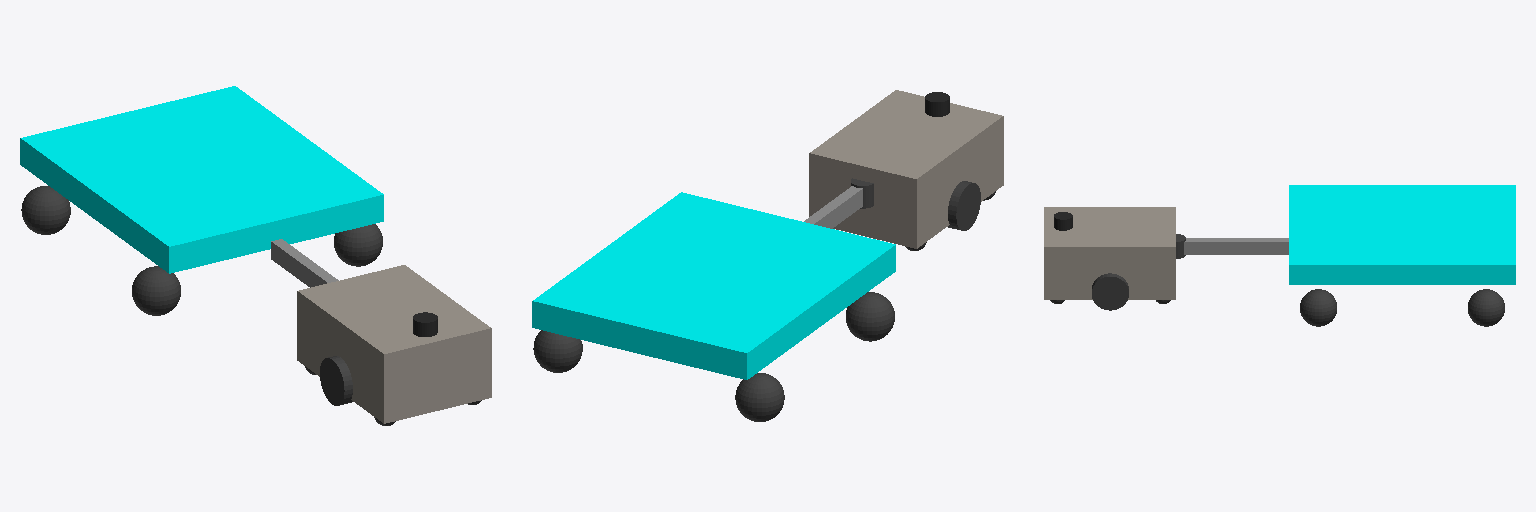
robot.urdf — glr_description:
<?xml version="1.0" ?>
<!-- =================================================================================== -->
<!-- |    This document was autogenerated by xacro from glr.xacro                      | -->
<!-- |    EDITING THIS FILE BY HAND IS NOT RECOMMENDED                                 | -->
<!-- =================================================================================== -->
<robot name="glr_description">
  <!--Robot description  -->
  <link name="base_link">
    <inertial>
      <origin rpy="0 0 0" xyz="0 0 0"/>
      <mass value="0.1"/>
      <inertia ixx="0.0001" ixy="0" ixz="0" iyy="0.0001" iyz="0" izz="0.0001"/>
    </inertial>
  </link>
  <!-- Robot Footprint -->
  <link name="base_footprint"/>
  <joint name="base_joint" type="fixed">
    <parent link="base_link"/>
    <child link="base_footprint"/>
    <origin rpy="0 0 0" xyz="0 0 0"/>
  </joint>
  <!-- Tugger -->
  <link name="chassibigga">
    <origin rpy="0 0 0" xyz="0 0 0"/>
    <inertial>
      <origin rpy="0 0 0" xyz="0 0 0.1"/>
      <mass value="40"/>
      <inertia ixx="1.9536666666666667" ixy="0.0" ixz="0.0" iyy="2.466666666666667" iyz="0.0" izz="1.1536666666666668"/>
    </inertial>
    <visual>
      <origin rpy="0 0 0" xyz="0 0 0.1"/>
      <geometry>
        <box size="0.50 0.70 0.31"/>
      </geometry>
      <material name="">
        <color rgba="0.64706 0.61961 0.58824 1"/>
      </material>
    </visual>
    <collision>
      <origin rpy="0 0 0" xyz="0 0 0.1"/>
      <geometry>
        <box size="0.50 0.70 0.31"/>
      </geometry>
    </collision>
  </link>
  <joint name="base_chassi_joint" type="fixed">
    <parent link="base_link"/>
    <child link="chassibigga"/>
    <origin rpy="0 0 0" xyz="0 0 0.1"/>
  </joint>
  <!-- Left Traction Wheel -->
  <link name="left_wheel">
    <inertial>
      <origin rpy="0 0 0" xyz="0 0 0"/>
      <mass value="12"/>
      <inertia ixx="0.06000000000000001" ixy="0" ixz="0" iyy="0.03640000000000001" iyz="0" izz="0.03640000000000001"/>
    </inertial>
    <visual>
      <origin rpy="0 1.5708 0" xyz="0 0 0"/>
      <geometry>
        <cylinder length="0.08" radius="0.1"/>
      </geometry>
      <material name="wheel_material">
        <color rgba="0.29804 0.29804 0.29804 1"/>
      </material>
    </visual>
    <collision>
      <origin rpy="0 1.5708 0" xyz="0 0 0"/>
      <geometry>
        <cylinder length="0.08" radius="0.1"/>
      </geometry>
    </collision>
  </link>
  <joint name="left_wheel_joint" type="continuous">
    <origin rpy="0 0 0" xyz="0.25 0 0"/>
    <parent link="chassibigga"/>
    <child link="left_wheel"/>
    <axis xyz="1 0 0"/>
    <dynamics damping="0.5" friction="1.0"/>
  </joint>
  <!-- Right Traction Wheel -->
  <link name="right_wheel">
    <inertial>
      <origin rpy="0 0 0" xyz="0 0 0"/>
      <mass value="12"/>
      <inertia ixx="0.06000000000000001" ixy="0" ixz="0" iyy="0.03640000000000001" iyz="0" izz="0.03640000000000001"/>
    </inertial>
    <visual>
      <origin rpy="0 1.5708 0" xyz="0 0 0"/>
      <geometry>
        <cylinder length="0.08" radius="0.1"/>
      </geometry>
      <material name="wheel_material">
        <color rgba="0.29804 0.29804 0.29804 1"/>
      </material>
    </visual>
    <collision>
      <origin rpy="0 1.5708 0" xyz="0 0 0"/>
      <geometry>
        <cylinder length="0.08" radius="0.1"/>
      </geometry>
    </collision>
  </link>
  <joint name="right_wheel_joint" type="continuous">
    <origin rpy="0 0 0" xyz="-0.25 0 0"/>
    <parent link="chassibigga"/>
    <child link="right_wheel"/>
    <axis xyz="1 0 0"/>
    <dynamics damping="0.5" friction="1.0"/>
  </joint>
  <link name="front_left_caster_wheel">
    <inertial>
      <origin rpy="0 0 0" xyz="0 0 0"/>
      <mass value="0.5"/>
      <inertia ixx="0.0005000000000000001" ixy="0.0" ixz="0.0" iyy="0.0005000000000000001" iyz="0.0" izz="0.0005000000000000001"/>
    </inertial>
    <visual>
      <origin rpy="0 0 0" xyz="0 0 0"/>
      <geometry>
        <sphere radius="0.05"/>
      </geometry>
      <material name="caster_material">
        <color rgba="0.29804 0.29804 0.29804 1"/>
      </material>
    </visual>
    <collision>
      <origin rpy="0 0 0" xyz="0 0 0"/>
      <geometry>
        <sphere radius="0.05"/>
      </geometry>
    </collision>
  </link>
  <joint name="front_left_caster_wheel_joint" type="continuous">
    <origin rpy="0 0 0" xyz="0.2 0.28 -0.05"/>
    <parent link="chassibigga"/>
    <child link="front_left_caster_wheel"/>
    <axis xyz="0 1 0"/>
    <dynamics damping="0.5" friction="0.5"/>
  </joint>
  <link name="front_right_caster_wheel">
    <inertial>
      <origin rpy="0 0 0" xyz="0 0 0"/>
      <mass value="0.5"/>
      <inertia ixx="0.0005000000000000001" ixy="0.0" ixz="0.0" iyy="0.0005000000000000001" iyz="0.0" izz="0.0005000000000000001"/>
    </inertial>
    <visual>
      <origin rpy="0 0 0" xyz="0 0 0"/>
      <geometry>
        <sphere radius="0.05"/>
      </geometry>
      <material name="caster_material">
        <color rgba="0.29804 0.29804 0.29804 1"/>
      </material>
    </visual>
    <collision>
      <origin rpy="0 0 0" xyz="0 0 0"/>
      <geometry>
        <sphere radius="0.05"/>
      </geometry>
    </collision>
  </link>
  <joint name="front_right_caster_wheel_joint" type="continuous">
    <origin rpy="0 0 0" xyz="0.2 -0.28 -0.05"/>
    <parent link="chassibigga"/>
    <child link="front_right_caster_wheel"/>
    <axis xyz="0 1 0"/>
    <dynamics damping="0.5" friction="0.5"/>
  </joint>
  <link name="rear_left_caster_wheel">
    <inertial>
      <origin rpy="0 0 0" xyz="0 0 0"/>
      <mass value="0.5"/>
      <inertia ixx="0.0005000000000000001" ixy="0.0" ixz="0.0" iyy="0.0005000000000000001" iyz="0.0" izz="0.0005000000000000001"/>
    </inertial>
    <visual>
      <origin rpy="0 0 0" xyz="0 0 0"/>
      <geometry>
        <sphere radius="0.05"/>
      </geometry>
      <material name="caster_material">
        <color rgba="0.29804 0.29804 0.29804 1"/>
      </material>
    </visual>
    <collision>
      <origin rpy="0 0 0" xyz="0 0 0"/>
      <geometry>
        <sphere radius="0.05"/>
      </geometry>
    </collision>
  </link>
  <joint name="rear_left_caster_wheel_joint" type="continuous">
    <origin rpy="0 0 0" xyz="-0.2 0.28 -0.05"/>
    <parent link="chassibigga"/>
    <child link="rear_left_caster_wheel"/>
    <axis xyz="0 1 0"/>
    <dynamics damping="0.5" friction="0.5"/>
  </joint>
  <link name="rear_right_caster_wheel">
    <inertial>
      <origin rpy="0 0 0" xyz="0 0 0"/>
      <mass value="0.5"/>
      <inertia ixx="0.0005000000000000001" ixy="0.0" ixz="0.0" iyy="0.0005000000000000001" iyz="0.0" izz="0.0005000000000000001"/>
    </inertial>
    <visual>
      <origin rpy="0 0 0" xyz="0 0 0"/>
      <geometry>
        <sphere radius="0.05"/>
      </geometry>
      <material name="caster_material">
        <color rgba="0.29804 0.29804 0.29804 1"/>
      </material>
    </visual>
    <collision>
      <origin rpy="0 0 0" xyz="0 0 0"/>
      <geometry>
        <sphere radius="0.05"/>
      </geometry>
    </collision>
  </link>
  <joint name="rear_right_caster_wheel_joint" type="continuous">
    <origin rpy="0 0 0" xyz="-0.2 -0.28 -0.05"/>
    <parent link="chassibigga"/>
    <child link="rear_right_caster_wheel"/>
    <axis xyz="0 1 0"/>
    <dynamics damping="0.5" friction="0.5"/>
  </joint>
  <!-- Hitch point at the back of tugger -->
  <link name="hitch_link">
    <inertial>
      <origin rpy="0 0 0" xyz="0 0 0"/>
      <mass value="1.0"/>
      <inertia ixx="0.01" ixy="0" ixz="0" iyy="0.01" iyz="0" izz="0.01"/>
    </inertial>
    <visual>
      <origin rpy="0 0 0" xyz="0 0 0"/>
      <geometry>
        <cylinder length="0.1" radius="0.05"/>
      </geometry>
      <material name="hitch_material">
        <color rgba="0.3 0.3 0.3 1"/>
      </material>
    </visual>
    <collision>
      <origin rpy="0 0 0" xyz="0 0 0"/>
      <geometry>
        <cylinder length="0.1" radius="0.05"/>
      </geometry>
    </collision>
  </link>
  <joint name="hitch_joint" type="fixed">
    <origin rpy="0 0 0" xyz="0 0.35 0.14"/>
    <parent link="chassibigga"/>
    <child link="hitch_link"/>
  </joint>
  <!-- Generic LiDAR -->
  <link name="lidar_link">
    <inertial>
      <origin rpy="0 0 0" xyz="0 0 0"/>
      <mass value="0.5"/>
      <inertia ixx="0.001" ixy="0" ixz="0" iyy="0.001" iyz="0" izz="0.001"/>
    </inertial>
    <visual>
      <origin rpy="0 0 0" xyz="0 0 0"/>
      <geometry>
        <cylinder length="0.07" radius="0.05"/>
      </geometry>
      <material name="lidar_material">
        <color rgba="0.2 0.2 0.2 1"/>
      </material>
    </visual>
    <collision>
      <origin rpy="0 0 0" xyz="0 0 0"/>
      <geometry>
        <cylinder length="0.07" radius="0.05"/>
      </geometry>
    </collision>
  </link>
  <joint name="lidar_joint" type="fixed">
    <parent link="chassibigga"/>
    <child link="lidar_link"/>
    <origin rpy="0 0 0" xyz="0 -0.25 0.28500000000000003"/>
  </joint>
  <link name="trailer_link">
    <inertial>
      <origin rpy="0 0 0" xyz="0 0 0"/>
      <mass value="0.5"/>
      <inertia ixx="0.01" ixy="0.0" ixz="0.0" iyy="0.01" iyz="0.0" izz="0.01"/>
    </inertial>
  </link>
  <link name="cambao">
    <inertial>
      <origin rpy="0 0 0" xyz="0 0.3 0"/>
      <mass value="1.0"/>
      <inertia ixx="0.03" ixy="0.0" ixz="0.0" iyy="0.001" iyz="0.0" izz="0.03"/>
    </inertial>
    <visual>
      <origin rpy="0 0 0" xyz="0 0.3 0"/>
      <geometry>
        <box size="0.05 0.6 0.08"/>
      </geometry>
      <material name="Grey">
        <color rgba="0.6 0.6 0.6 1"/>
      </material>
    </visual>
    <collision>
      <origin rpy="0 0 0" xyz="0 0.3 0"/>
      <geometry>
        <box size="0.05 0.6 0.08"/>
      </geometry>
    </collision>
  </link>
  <joint name="trailer_cambao_joint" type="revolute">
    <origin rpy="0 0 0" xyz="0 0 0"/>
    <parent link="trailer_link"/>
    <child link="cambao"/>
    <axis xyz="0 0 1"/>
    <limit effort="100" lower="-1.57" upper="1.57" velocity="1"/>
    <dynamics damping="10000.0" friction="0.0"/>
  </joint>
  <link name="chassi">
    <inertial>
      <origin rpy="0 0 0" xyz="0 0.6 0.35"/>
      <mass value="80.702"/>
      <inertia ixx="9.781082399999999" ixy="0.0" ixz="0.0" iyy="16.409406666666666" iyz="0.0" izz="6.822009066666666"/>
    </inertial>
    <visual>
      <origin rpy="0 0 0" xyz="0 0.6 0.35"/>
      <geometry>
        <box size="1 1.2 0.12"/>
      </geometry>
      <material name="Cyan">
        <color rgba="0 1 1 1"/>
      </material>
    </visual>
    <collision>
      <origin rpy="0 0 0" xyz="0 0.6 0.35"/>
      <geometry>
        <box size="1 1.2 0.12"/>
      </geometry>
    </collision>
  </link>
  <joint name="cambao_chassi_joint" type="revolute">
    <origin rpy="0 0 0" xyz="0 0.6 -0.284"/>
    <parent link="cambao"/>
    <child link="chassi"/>
    <axis xyz="0 0 1"/>
    <limit effort="100" lower="-0.8" upper="0.8" velocity="1"/>
    <dynamics damping="10000.0" friction="0.0"/>
  </joint>
  <link name="diant1_wheel">
    <inertial>
      <origin rpy="0 0 0" xyz="0 0 0"/>
      <mass value="2.0"/>
      <inertia ixx="0.008000000000000002" ixy="0.0" ixz="0.0" iyy="0.008000000000000002" iyz="0.0" izz="0.008000000000000002"/>
    </inertial>
    <visual>
      <origin rpy="0 0 0" xyz="0 0 0"/>
      <geometry>
        <sphere radius="0.1"/>
      </geometry>
      <material name="caster_material">
        <color rgba="0.29804 0.29804 0.29804 1"/>
      </material>
    </visual>
    <collision>
      <origin rpy="0 0 0" xyz="0 0 0"/>
      <geometry>
        <sphere radius="0.1"/>
      </geometry>
    </collision>
  </link>
  <joint name="diant1_wheel_joint" type="continuous">
    <origin rpy="0 0 0" xyz="0.47 0.155 0.144"/>
    <parent link="chassi"/>
    <child link="diant1_wheel"/>
    <!-- Sphere rotation axis logic can remain 0 1 0 or 1 0 0, dynamics handle the rest -->
    <axis xyz="0 1 0"/>
    <dynamics damping="0.5" friction="0.5"/>
  </joint>
  <link name="diant2_wheel">
    <inertial>
      <origin rpy="0 0 0" xyz="0 0 0"/>
      <mass value="2.0"/>
      <inertia ixx="0.008000000000000002" ixy="0.0" ixz="0.0" iyy="0.008000000000000002" iyz="0.0" izz="0.008000000000000002"/>
    </inertial>
    <visual>
      <origin rpy="0 0 0" xyz="0 0 0"/>
      <geometry>
        <sphere radius="0.1"/>
      </geometry>
      <material name="caster_material">
        <color rgba="0.29804 0.29804 0.29804 1"/>
      </material>
    </visual>
    <collision>
      <origin rpy="0 0 0" xyz="0 0 0"/>
      <geometry>
        <sphere radius="0.1"/>
      </geometry>
    </collision>
  </link>
  <joint name="diant2_wheel_joint" type="continuous">
    <origin rpy="0 0 0" xyz="-0.47 0.155 0.144"/>
    <parent link="chassi"/>
    <child link="diant2_wheel"/>
    <!-- Sphere rotation axis logic can remain 0 1 0 or 1 0 0, dynamics handle the rest -->
    <axis xyz="0 1 0"/>
    <dynamics damping="0.5" friction="0.5"/>
  </joint>
  <link name="tras1_wheel">
    <inertial>
      <origin rpy="0 0 0" xyz="0 0 0"/>
      <mass value="2.0"/>
      <inertia ixx="0.008000000000000002" ixy="0.0" ixz="0.0" iyy="0.008000000000000002" iyz="0.0" izz="0.008000000000000002"/>
    </inertial>
    <visual>
      <origin rpy="0 0 0" xyz="0 0 0"/>
      <geometry>
        <sphere radius="0.1"/>
      </geometry>
      <material name="caster_material">
        <color rgba="0.29804 0.29804 0.29804 1"/>
      </material>
    </visual>
    <collision>
      <origin rpy="0 0 0" xyz="0 0 0"/>
      <geometry>
        <sphere radius="0.1"/>
      </geometry>
    </collision>
  </link>
  <joint name="tras1_wheel_joint" type="continuous">
    <origin rpy="0 0 0" xyz="0.47 1.045 0.144"/>
    <parent link="chassi"/>
    <child link="tras1_wheel"/>
    <!-- Sphere rotation axis logic can remain 0 1 0 or 1 0 0, dynamics handle the rest -->
    <axis xyz="0 1 0"/>
    <dynamics damping="0.5" friction="0.5"/>
  </joint>
  <link name="tras2_wheel">
    <inertial>
      <origin rpy="0 0 0" xyz="0 0 0"/>
      <mass value="2.0"/>
      <inertia ixx="0.008000000000000002" ixy="0.0" ixz="0.0" iyy="0.008000000000000002" iyz="0.0" izz="0.008000000000000002"/>
    </inertial>
    <visual>
      <origin rpy="0 0 0" xyz="0 0 0"/>
      <geometry>
        <sphere radius="0.1"/>
      </geometry>
      <material name="caster_material">
        <color rgba="0.29804 0.29804 0.29804 1"/>
      </material>
    </visual>
    <collision>
      <origin rpy="0 0 0" xyz="0 0 0"/>
      <geometry>
        <sphere radius="0.1"/>
      </geometry>
    </collision>
  </link>
  <joint name="tras2_wheel_joint" type="continuous">
    <origin rpy="0 0 0" xyz="-0.47 1.045 0.144"/>
    <parent link="chassi"/>
    <child link="tras2_wheel"/>
    <!-- Sphere rotation axis logic can remain 0 1 0 or 1 0 0, dynamics handle the rest -->
    <axis xyz="0 1 0"/>
    <dynamics damping="0.5" friction="0.5"/>
  </joint>
  <!-- Connection between tugger and trailer -->
  <joint name="tugger_trailer_joint" type="revolute">
    <origin rpy="0 0 0" xyz="0 0 0"/>
    <parent link="hitch_link"/>
    <child link="trailer_link"/>
    <axis xyz="0 0 1"/>
    <limit effort="100" lower="-0.6" upper="0.6" velocity="1"/>
    <dynamics damping="0" friction="0"/>
  </joint>
</robot>

--- What the picture shows (computed from the rendered views, not written in the file) ---
3 views of the same robot in one strip: view 1: azimuth 30°, elevation 25°; view 2: azimuth 150°, elevation 25°; view 3: azimuth 270°, elevation 25° (orthographic).
Robot: glr_description — 18 links, 17 joints (3 revolute, 10 continuous, 4 fixed); root link base_link; default pose: every joint at zero.
Visible links, largest first — view 1: chassi, chassibigga, diant2_wheel, tras2_wheel, diant1_wheel, cambao, right_wheel, lidar_link; view 2: chassi, chassibigga, tras2_wheel, diant2_wheel, tras1_wheel, right_wheel, cambao, lidar_link; view 3: chassi, chassibigga, cambao, left_wheel, tras1_wheel, diant1_wheel.
Link boxes in pixels (left/top/right/bottom): chassi: left=20, top=86, right=383, bottom=273; chassibigga: left=297, top=265, right=491, bottom=423; diant2_wheel: left=132, top=266, right=180, bottom=315; tras2_wheel: left=21, top=186, right=70, bottom=234; diant1_wheel: left=334, top=224, right=382, bottom=266; cambao: left=271, top=239, right=338, bottom=287; right_wheel: left=320, top=356, right=352, bottom=405; lidar_link: left=413, top=312, right=437, bottom=336; chassi: left=532, top=192, right=895, bottom=379; chassibigga: left=809, top=90, right=1003, bottom=248; tras2_wheel: left=735, top=373, right=784, bottom=421; diant2_wheel: left=846, top=292, right=894, bottom=341; tras1_wheel: left=533, top=330, right=582, bottom=372; right_wheel: left=948, top=181, right=980, bottom=230; cambao: left=804, top=186, right=862, bottom=228; lidar_link: left=925, top=92, right=949, bottom=116; chassi: left=1289, top=185, right=1515, bottom=284; chassibigga: left=1044, top=207, right=1175, bottom=299; cambao: left=1184, top=238, right=1288, bottom=254; left_wheel: left=1092, top=273, right=1128, bottom=310; tras1_wheel: left=1468, top=289, right=1504, bottom=326; diant1_wheel: left=1300, top=289, right=1336, bottom=326.
Bounding box of the posed robot: 1.14 × 2.5 × 0.42 m (x, y, z).
Geometry: primitives only (box / cylinder / sphere), no mesh files.
